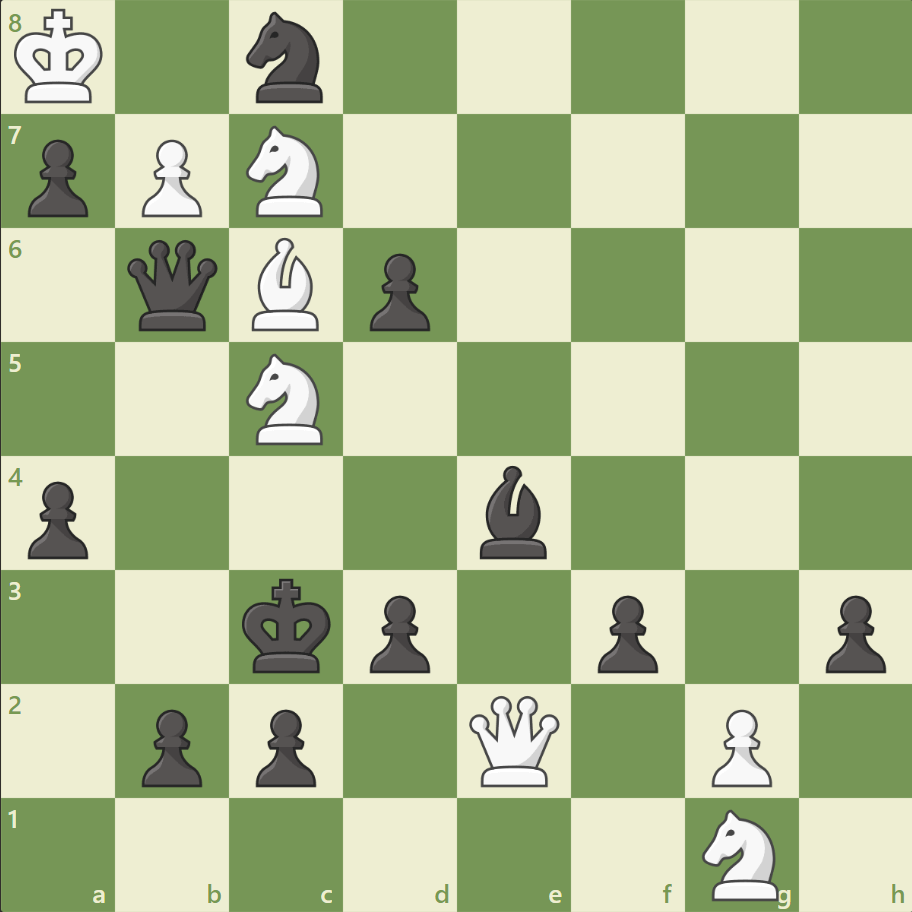B: (244, 233, 328, 336)
K: (11, 4, 111, 112)
N: (238, 121, 335, 223), (238, 348, 335, 450), (692, 802, 789, 904)
P: (133, 132, 208, 223), (701, 700, 776, 791)
Q: (464, 690, 563, 789)
b: (471, 460, 555, 563)
k: (238, 571, 338, 679)
n: (238, 7, 335, 110)
p: (20, 132, 95, 223), (20, 473, 95, 564), (133, 700, 208, 791), (247, 700, 322, 791), (361, 246, 435, 337), (361, 586, 435, 677), (588, 586, 662, 677), (815, 586, 889, 677)
q: (124, 236, 223, 335)
